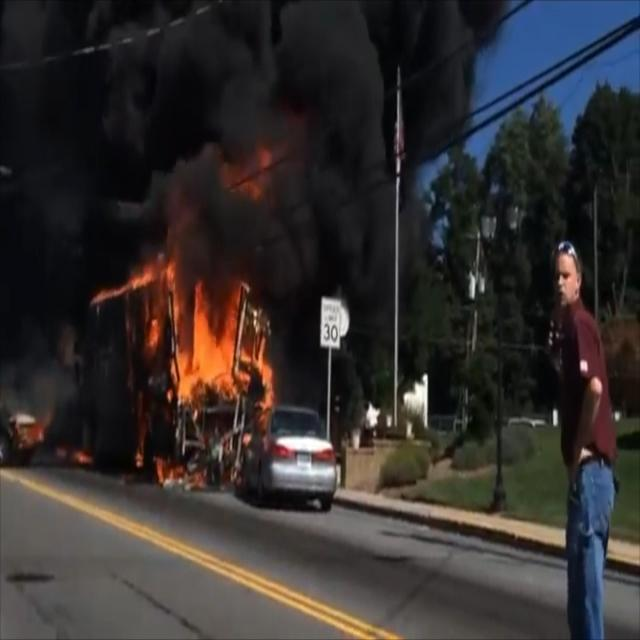fire: (64, 215, 270, 500)
